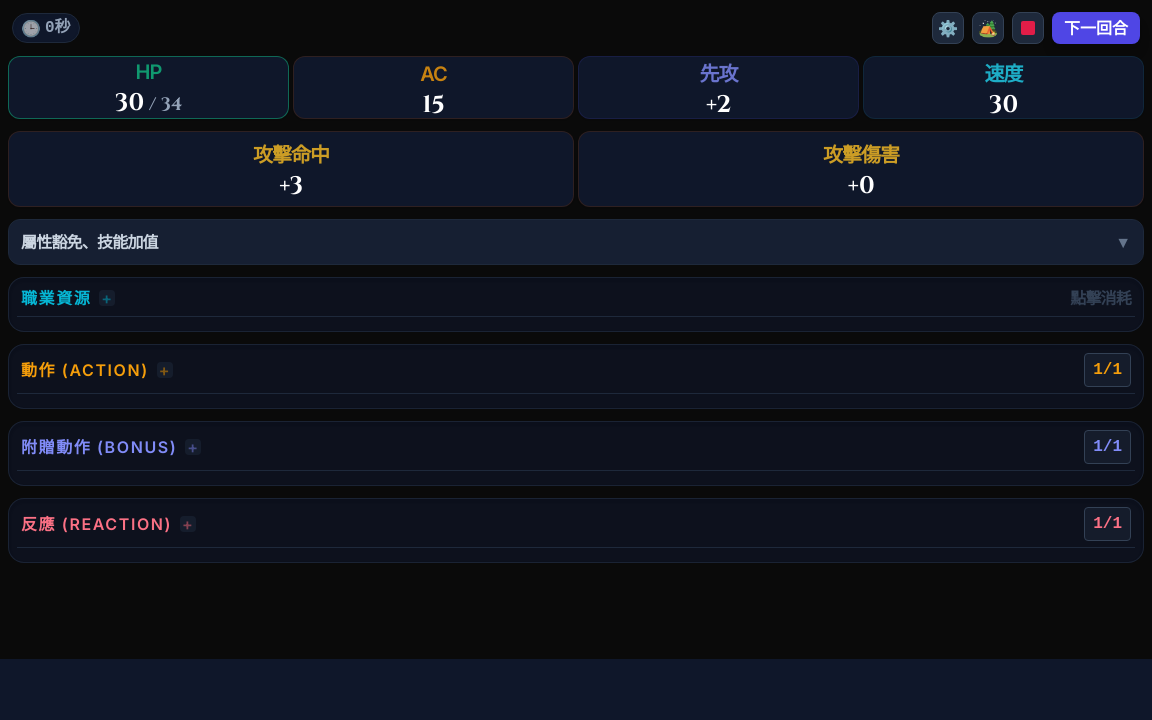
it: CombatView - 戰鬥屬性加值來源明細（問題9重構） › AC 編輯彈窗：加值來源應包含敏捷調整值、statBonusSources 明細、其他加值，且最終總計正確
Click the text "AC". click: (434, 74)
box: [420,58,447,88]
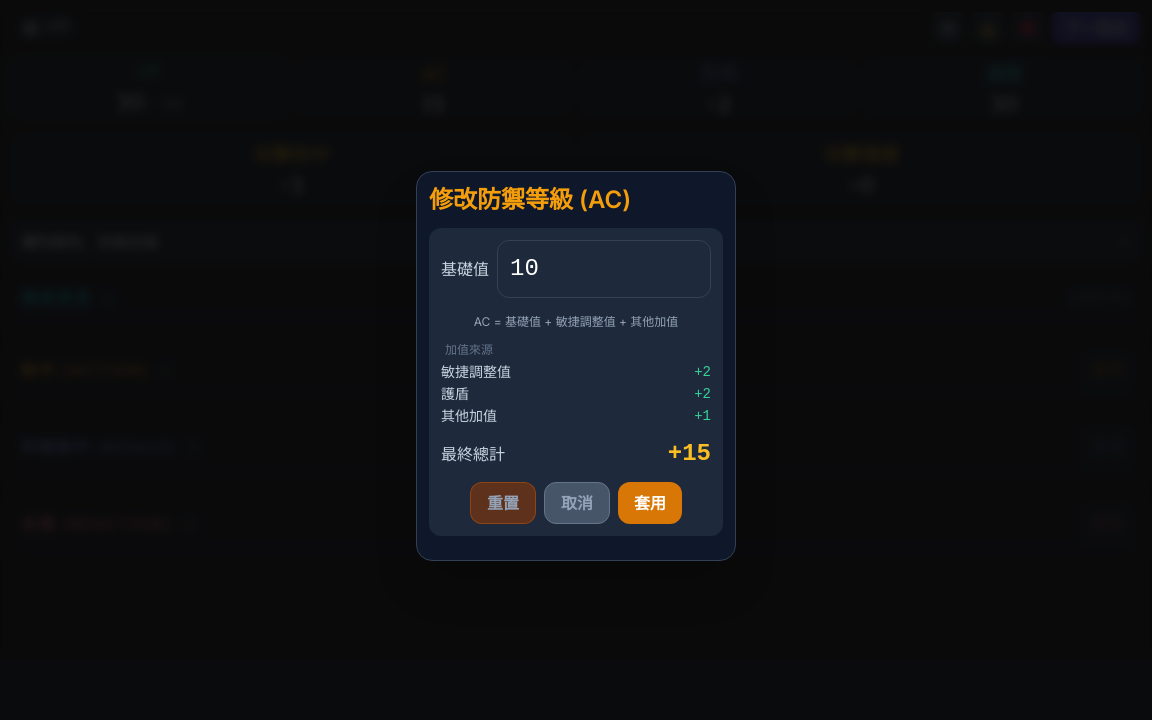
Expected: the text "敏捷調整值" is shown, [441,362,511,382]
Expected: the text "護盾" is shown, [441,384,469,404]
Expected: the text "其他加值" is shown, [441,406,497,426]
